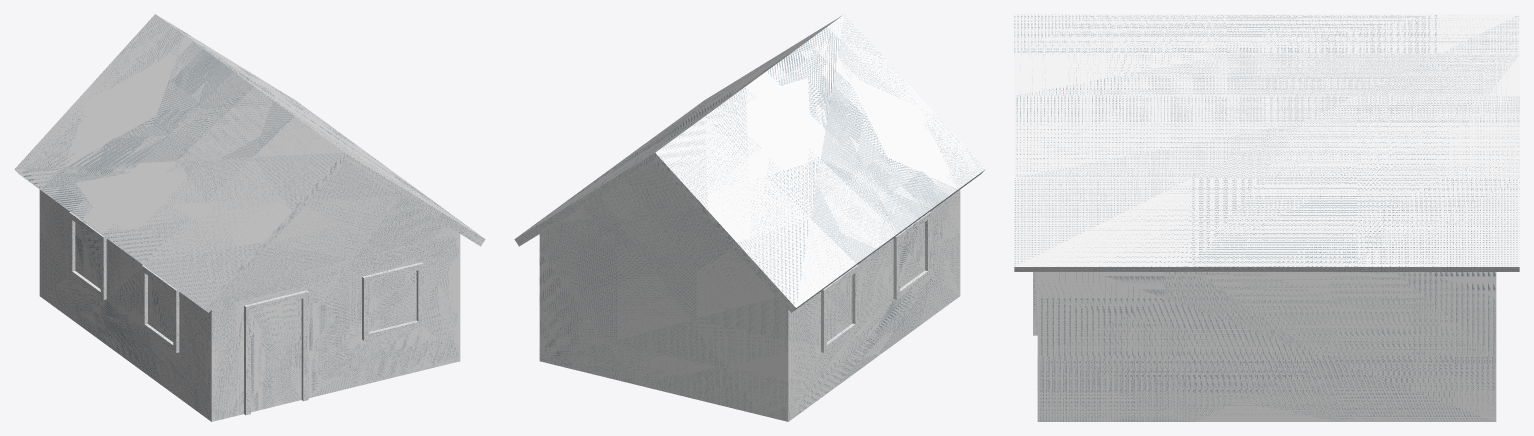
File: haus.obj
3 renders of one model, left to right at view 1: azimuth 30°, elevation 25°; view 2: azimuth 150°, elevation 25°; view 3: azimuth 270°, elevation 25°, orthographic. The views are drawn at different scales.
Parts seen in each view (by area): view 1: SketchUp_ID2, SketchUp.001_ID12.001, SketchUp.004_ID30.001, SketchUp.002_ID18.001, SketchUp.003_ID24.001, SketchUp.006_ID42.001, SketchUp.005_ID36.001; view 2: SketchUp_ID2, SketchUp.004_ID30.001, SketchUp.003_ID24.001, SketchUp.006_ID42.001, SketchUp.005_ID36.001; view 3: SketchUp_ID2.
Boxes of the visible parts, x1,y1,x2,y2 form: SketchUp_ID2: (14, 14, 485, 421); SketchUp.001_ID12.001: (369, 270, 418, 333); SketchUp.004_ID30.001: (144, 273, 173, 344); SketchUp.002_ID18.001: (362, 262, 423, 340); SketchUp.003_ID24.001: (72, 220, 100, 291); SketchUp.006_ID42.001: (141, 265, 179, 352); SketchUp.005_ID36.001: (69, 212, 106, 299); SketchUp_ID2: (514, 14, 985, 421); SketchUp.004_ID30.001: (899, 220, 927, 291); SketchUp.003_ID24.001: (827, 273, 855, 344); SketchUp.006_ID42.001: (893, 212, 930, 299); SketchUp.005_ID36.001: (821, 265, 858, 352); SketchUp_ID2: (1014, 14, 1519, 421).
Bounding box in the file's own units: 3.73 × 3.1 × 4.34.
